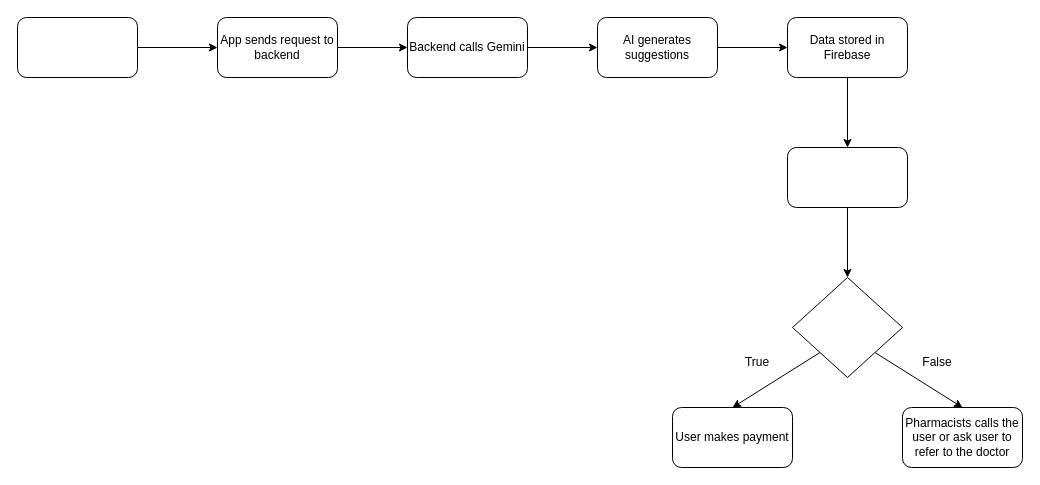
Image size: 1040x485. Some labels were removed from this diagram. The centre of each missing label's shape, as x and y in pixels:
"Pharmacist approves" belongs at [847,327].
"Pharmacist receives notifications and reviews it" belongs at [847,177].
"User enters symptoms" belongs at [77,47].
